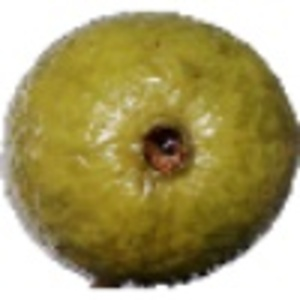goiaba: (6, 9, 297, 286)
